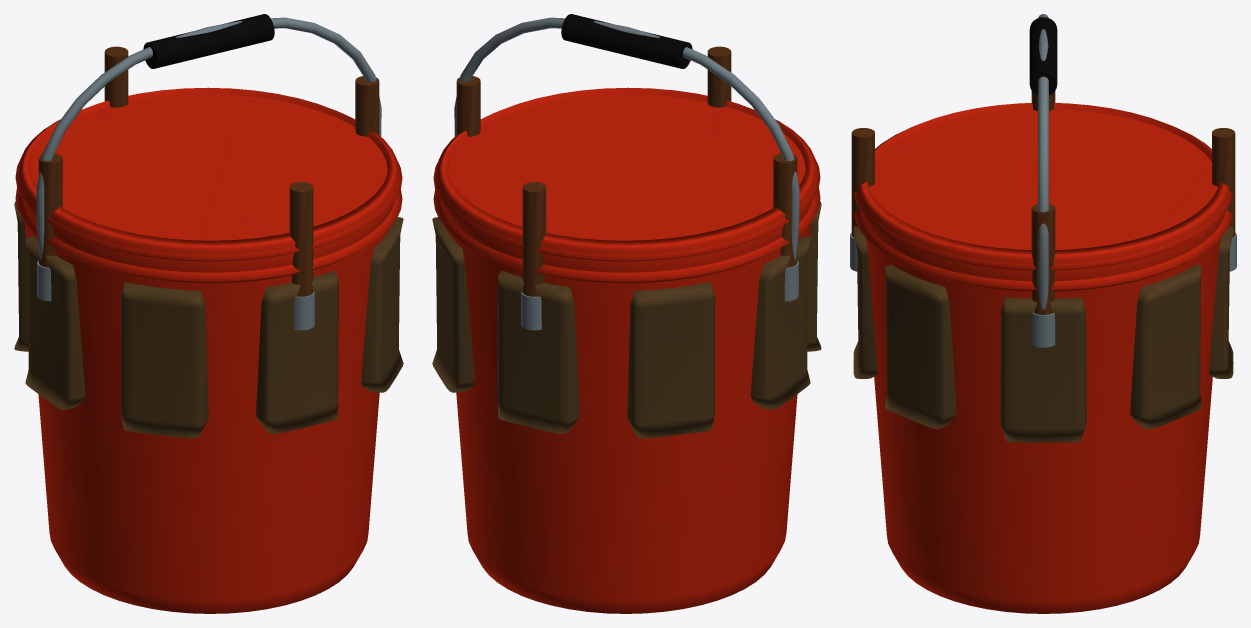
The model's file is ToolBucket.gltf.
The picture shows the model from 3 angles, left to right: view 1: azimuth 30°, elevation 25°; view 2: azimuth 150°, elevation 25°; view 3: azimuth 270°, elevation 25°; orthographic projection. The views are drawn at different scales.
Visible parts, largest first — view 1: ToolBucket__Body; view 2: ToolBucket__Body; view 3: ToolBucket__Body.
Part boxes in pixels (x1=…): ToolBucket__Body: x1=14, y1=14, x2=403, y2=613; ToolBucket__Body: x1=432, y1=14, x2=821, y2=613; ToolBucket__Body: x1=850, y1=14, x2=1236, y2=613.
Bounding box in the file's own units: 0.3332 × 0.4844 × 0.3332.
Materials: 1 (1 with a texture image).
